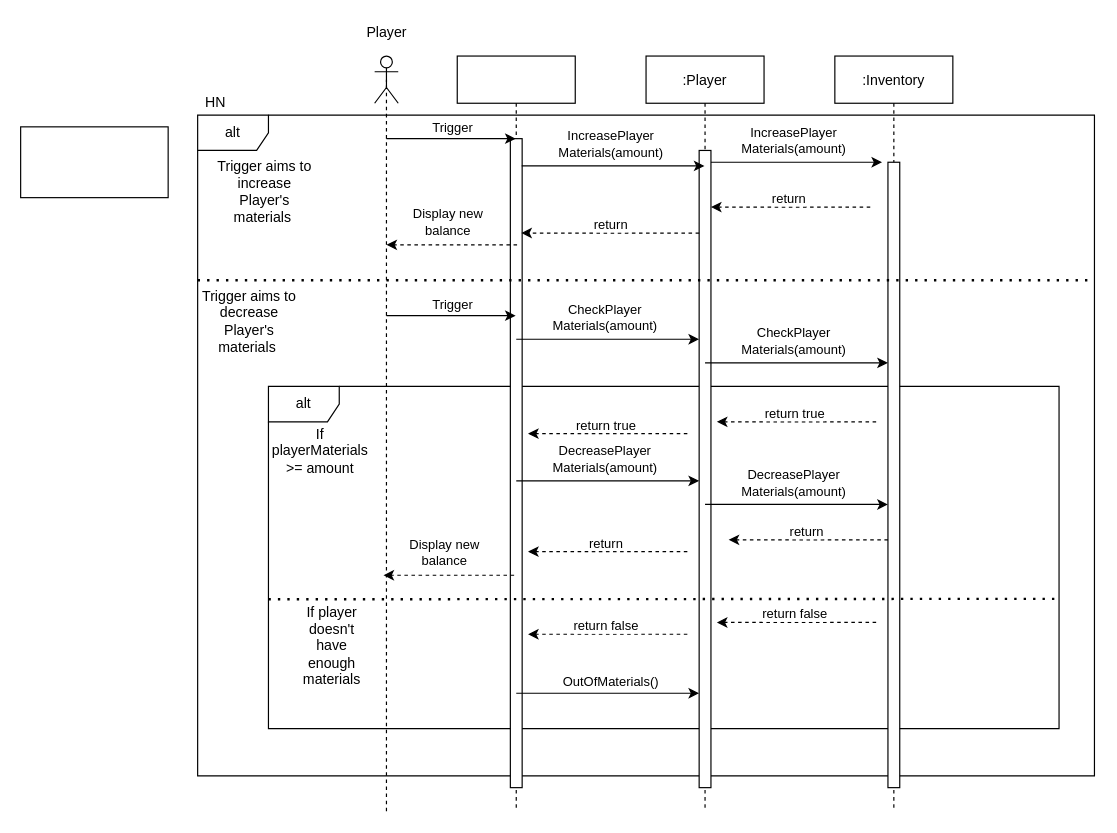
Some shapes in this 1117 by 833 pixel diagram are drawn without their labels. Each missing label, with the box of its shape:
:Back From The Brink: (456, 55, 575, 811)
Trigger can be anything that needs to check if the player has enough materials: (19, 126, 168, 198)
